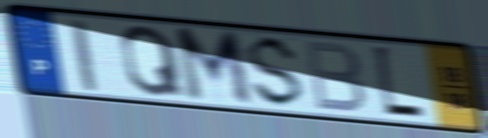B: (301, 38, 368, 115)
I: (66, 16, 101, 95)
L: (369, 42, 428, 123)
M: (171, 25, 257, 110)
Q: (117, 23, 188, 99)
S: (246, 33, 307, 111)
